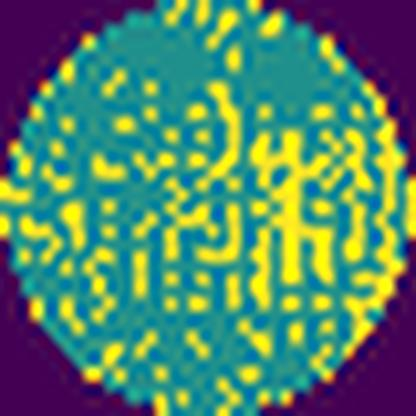Random: (0, 74, 415, 378)
